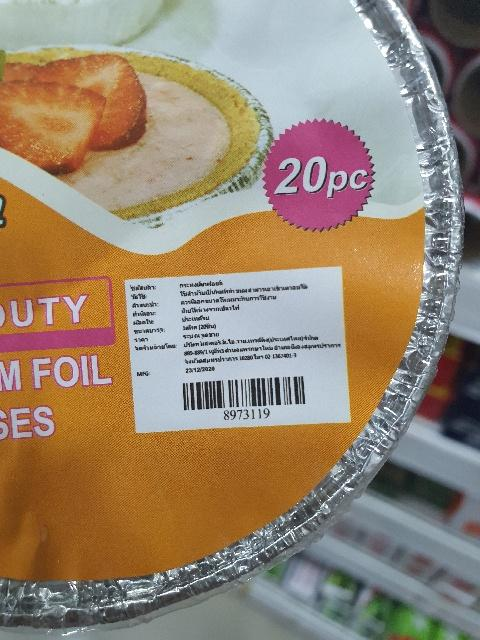Barcode: (172, 371, 315, 423)
